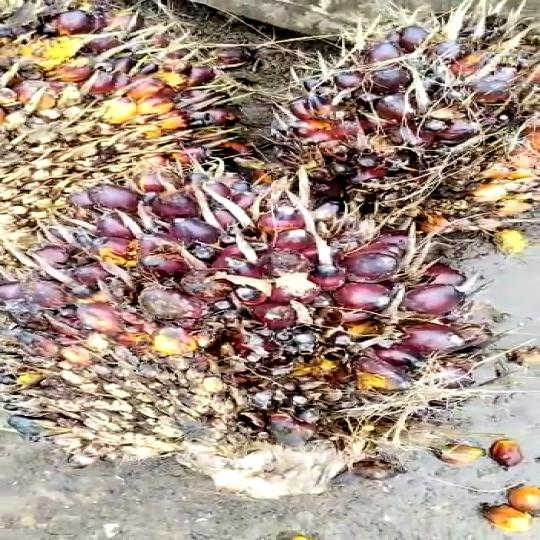masak: (0, 160, 499, 468), (255, 0, 540, 253), (0, 0, 273, 263)
